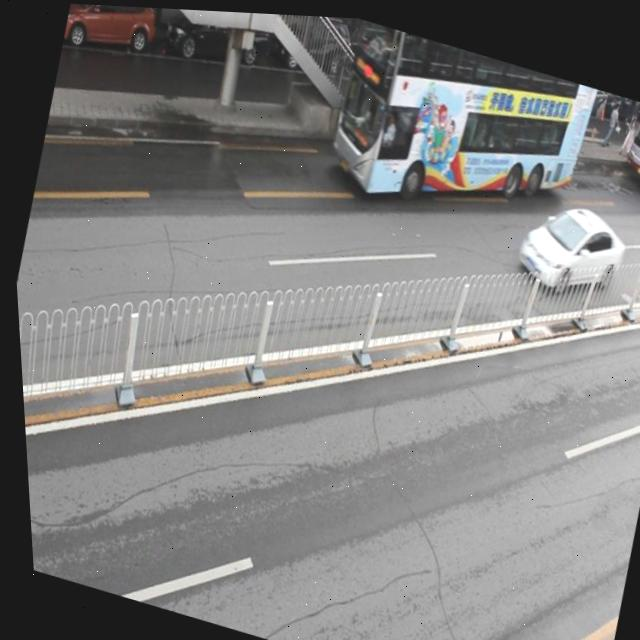car: (509, 186, 631, 299), (164, 7, 277, 69), (62, 3, 168, 61), (353, 16, 442, 85), (277, 11, 358, 73)
van: (314, 13, 602, 247), (615, 93, 640, 194)
